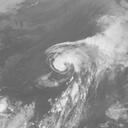cyclone: (45, 41, 87, 75)
